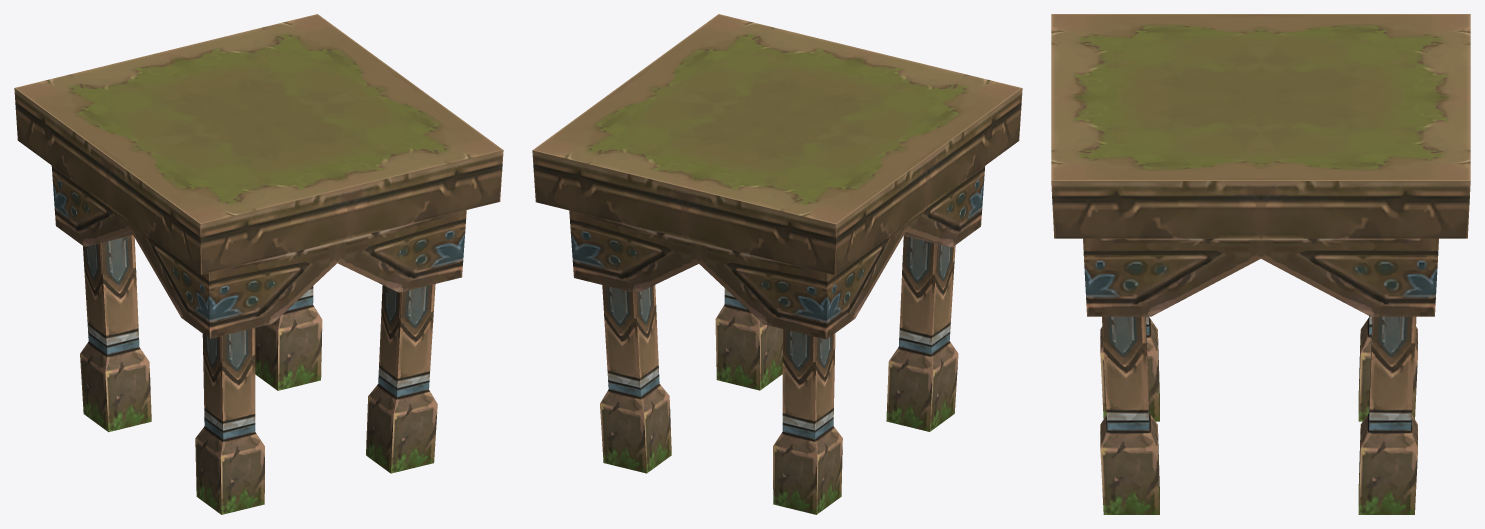
The model's file is Z01_jianzhu_02.FBX.
The picture shows the model from 3 angles, left to right: view 1: azimuth 30°, elevation 25°; view 2: azimuth 150°, elevation 25°; view 3: azimuth 270°, elevation 25°; orthographic projection. The views are drawn at different scales.
Parts seen in each view (by area): view 1: 对象19; view 2: 对象19; view 3: 对象19.
Part boxes in pixels (box(x1,y1,x2,y2)): 对象19: box(14, 14, 503, 514); 对象19: box(532, 14, 1022, 514); 对象19: box(1051, 14, 1470, 514).
Size of the model in its own units: 175 by 175 by 185.
